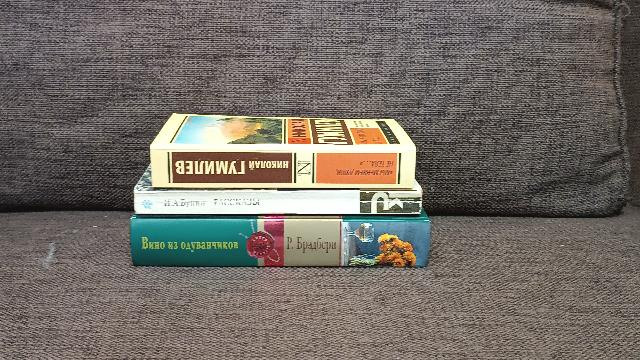book-s-spine: (131, 220, 430, 268), (150, 149, 415, 188), (134, 192, 422, 215)
